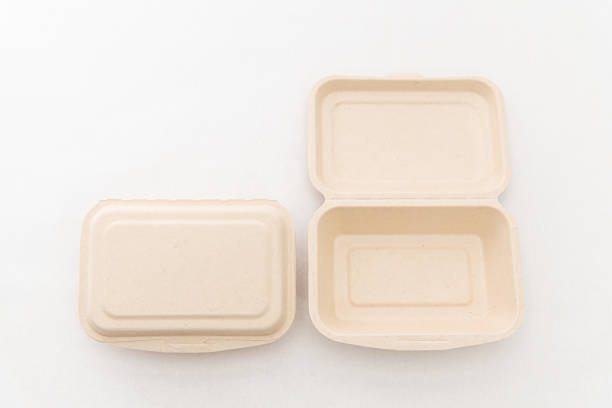styrofoam: (293, 62, 524, 354), (79, 180, 301, 357)
